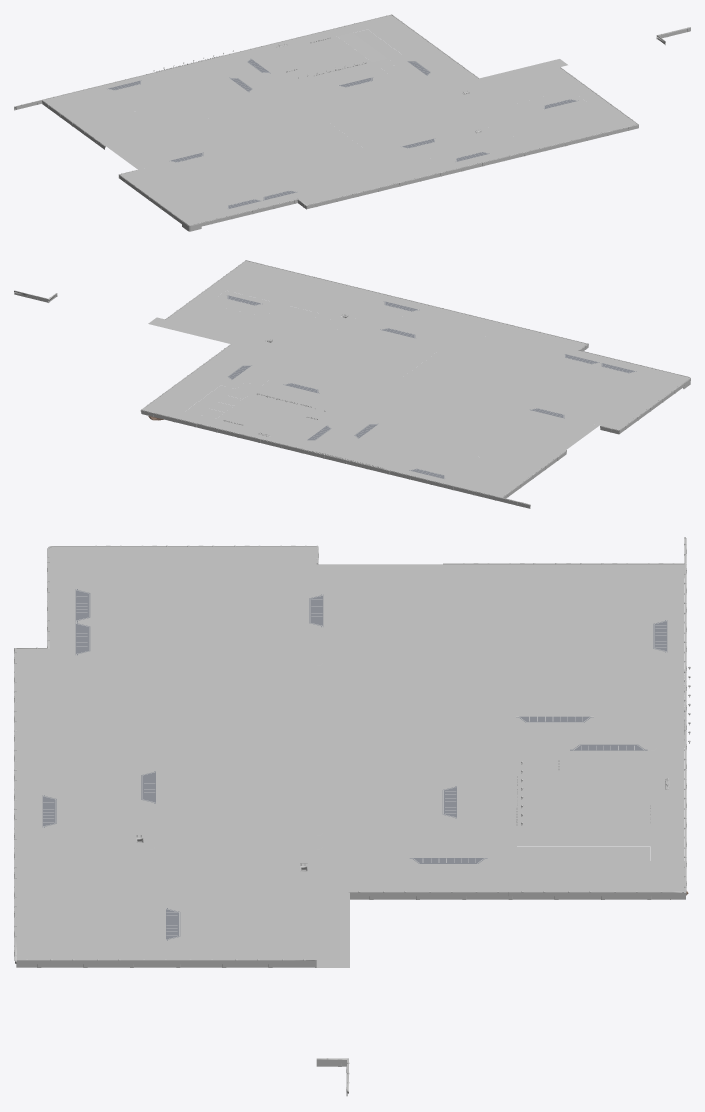
3 renders of one model, top to bottom at view 1: azimuth 30°, elevation 25°; view 2: azimuth 150°, elevation 25°; view 3: azimuth 270°, elevation 25°, orthographic. The views are drawn at different scales.
Parts seen in each view (by area): view 1: 01d01i01b01i01a01o01201d01i01b01i01a01o01101d01i01b01i0_93d6, 01d01i01b01i01a01o01301d01i01b01i01a01o01301d01i01b01i0_ca34, 01d01i01b01i01a01o01平01d01i01b01i01a01o01面01d01i01b_3d4, 01d01i01b01i01a01o01平01d01i01b01i01a01o01面01d01i01b_2635328, 01d01i01b01i01a01o01201d01i01b01i01a01o01101d01i01b01i0_4b26, 01d01i01b01i01a01o01平01d01i01b01i01a01o01面01d01i01b_e9bc184, 01d01i01b01i01a01o01平01d01i01b01i01a01o01面01d01i01b_e1783f9, 01d01i01b01i01a01o01平01d01i01b01i01a01o01面01d01i01b_c6d0f69, 01d01i01b01i01a01o01平01d01i01b01i01a01o01面01d01i01b_62409b9, 01d01i01b01i01a01o01平01d01i01b01i01a01o01面01d01i01b_a68b9bd, 01d01i01b01i01a01o01B01d01i01b01i01a01o01o01d01i01b01i0_da92, 01d01i01b01i01a01o01201d01i01b01i01a01o01101d01i01b01i0_fcbe (+38 smaller); view 2: 01d01i01b01i01a01o01201d01i01b01i01a01o01101d01i01b01i0_93d6, 01d01i01b01i01a01o01301d01i01b01i01a01o01301d01i01b01i0_ca34, 01d01i01b01i01a01o01平01d01i01b01i01a01o01面01d01i01b_3d4, 01d01i01b01i01a01o01平01d01i01b01i01a01o01面01d01i01b_2635328, 01d01i01b01i01a01o01201d01i01b01i01a01o01101d01i01b01i0_4b26, 01d01i01b01i01a01o01平01d01i01b01i01a01o01面01d01i01b_e9bc184, 01d01i01b01i01a01o01平01d01i01b01i01a01o01面01d01i01b_e1783f9, 01d01i01b01i01a01o01平01d01i01b01i01a01o01面01d01i01b_c6d0f69, 01d01i01b01i01a01o01平01d01i01b01i01a01o01面01d01i01b_62409b9, 01d01i01b01i01a01o01平01d01i01b01i01a01o01面01d01i01b_a68b9bd, 01d01i01b01i01a01o01B01d01i01b01i01a01o01o01d01i01b01i0_c861, 01d01i01b01i01a01o01201d01i01b01i01a01o01101d01i01b01i0_fcbe (+35 smaller); view 3: 01d01i01b01i01a01o01201d01i01b01i01a01o01101d01i01b01i0_93d6, 01d01i01b01i01a01o01301d01i01b01i01a01o01301d01i01b01i0_ca34, 01d01i01b01i01a01o01平01d01i01b01i01a01o01面01d01i01b_3d4, 01d01i01b01i01a01o01平01d01i01b01i01a01o01面01d01i01b_2635328, 01d01i01b01i01a01o01201d01i01b01i01a01o01101d01i01b01i0_4b26, 01d01i01b01i01a01o01平01d01i01b01i01a01o01面01d01i01b_e9bc184, 01d01i01b01i01a01o01平01d01i01b01i01a01o01面01d01i01b_e1783f9, 01d01i01b01i01a01o01平01d01i01b01i01a01o01面01d01i01b_c6d0f69, 01d01i01b01i01a01o01平01d01i01b01i01a01o01面01d01i01b_62409b9, 01d01i01b01i01a01o01平01d01i01b01i01a01o01面01d01i01b_a68b9bd, 01d01i01b01i01a01o01201d01i01b01i01a01o01101d01i01b01i0_fcbe, 01d01i01b01i01a01o01101d01i01b01i01a01o01201d01i01b01i0_8d05 (+44 smaller).
Boxes of the visible parts, x1,y1,x2,y2 form: 01d01i01b01i01a01o01201d01i01b01i01a01o01101d01i01b01i0_93d6: (120, 144, 303, 218); 01d01i01b01i01a01o01301d01i01b01i01a01o01301d01i01b01i0_ca34: (67, 59, 281, 128); 01d01i01b01i01a01o01平01d01i01b01i01a01o01面01d01i01b_3d4: (224, 75, 415, 134); 01d01i01b01i01a01o01平01d01i01b01i01a01o01面01d01i01b_2635328: (102, 106, 234, 159); 01d01i01b01i01a01o01201d01i01b01i01a01o01101d01i01b01i0_4b26: (455, 71, 579, 118); 01d01i01b01i01a01o01平01d01i01b01i01a01o01面01d01i01b_e9bc184: (359, 15, 478, 86); 01d01i01b01i01a01o01平01d01i01b01i01a01o01面01d01i01b_e1783f9: (350, 100, 458, 143); 01d01i01b01i01a01o01平01d01i01b01i01a01o01面01d01i01b_c6d0f69: (262, 37, 371, 80); 01d01i01b01i01a01o01平01d01i01b01i01a01o01面01d01i01b_62409b9: (259, 123, 364, 165); 01d01i01b01i01a01o01平01d01i01b01i01a01o01面01d01i01b_a68b9bd: (498, 103, 613, 143); 01d01i01b01i01a01o01B01d01i01b01i01a01o01o01d01i01b01i0_da92: (306, 124, 638, 208); 01d01i01b01i01a01o01201d01i01b01i01a01o01101d01i01b01i0_fcbe: (313, 147, 516, 200); 01d01i01b01i01a01o01201d01i01b01i01a01o01101d01i01b01i0_93d6: (492, 353, 680, 429); 01d01i01b01i01a01o01301d01i01b01i01a01o01301d01i01b01i0_ca34: (309, 415, 529, 486); 01d01i01b01i01a01o01平01d01i01b01i01a01o01面01d01i01b_3d4: (270, 360, 466, 421); 01d01i01b01i01a01o01平01d01i01b01i01a01o01面01d01i01b_2635328: (438, 405, 574, 460); 01d01i01b01i01a01o01201d01i01b01i01a01o01101d01i01b01i0_4b26: (181, 297, 309, 345); 01d01i01b01i01a01o01平01d01i01b01i01a01o01面01d01i01b_e9bc184: (142, 344, 265, 417); 01d01i01b01i01a01o01平01d01i01b01i01a01o01面01d01i01b_e1783f9: (306, 327, 417, 372); 01d01i01b01i01a01o01平01d01i01b01i01a01o01面01d01i01b_c6d0f69: (216, 393, 328, 437); 01d01i01b01i01a01o01平01d01i01b01i01a01o01面01d01i01b_62409b9: (403, 351, 511, 394); 01d01i01b01i01a01o01平01d01i01b01i01a01o01面01d01i01b_a68b9bd: (226, 271, 345, 312); 01d01i01b01i01a01o01B01d01i01b01i01a01o01o01d01i01b01i0_c861: (141, 409, 530, 508); 01d01i01b01i01a01o01201d01i01b01i01a01o01101d01i01b01i0_fcbe: (361, 291, 571, 346); 01d01i01b01i01a01o01201d01i01b01i01a01o01101d01i01b01i0_93d6: (82, 547, 316, 662); 01d01i01b01i01a01o01301d01i01b01i01a01o01301d01i01b01i0_ca34: (517, 578, 650, 747); 01d01i01b01i01a01o01平01d01i01b01i01a01o01面01d01i01b_3d4: (350, 677, 450, 832); 01d01i01b01i01a01o01平01d01i01b01i01a01o01面01d01i01b_2635328: (350, 578, 516, 662); 01d01i01b01i01a01o01201d01i01b01i01a01o01101d01i01b01i0_4b26: (182, 860, 316, 946); 01d01i01b01i01a01o01平01d01i01b01i01a01o01面01d01i01b_e9bc184: (348, 861, 684, 891); 01d01i01b01i01a01o01平01d01i01b01i01a01o01面01d01i01b_e1783f9: (182, 762, 316, 832); 01d01i01b01i01a01o01平01d01i01b01i01a01o01面01d01i01b_c6d0f69: (517, 762, 650, 832); 01d01i01b01i01a01o01平01d01i01b01i01a01o01面01d01i01b_62409b9: (182, 677, 316, 743); 01d01i01b01i01a01o01平01d01i01b01i01a01o01面01d01i01b_a68b9bd: (49, 860, 149, 945); 01d01i01b01i01a01o01201d01i01b01i01a01o01101d01i01b01i0_fcbe: (16, 663, 49, 846); 01d01i01b01i01a01o01101d01i01b01i01a01o01201d01i01b01i0_8d05: (350, 564, 650, 578).
Bounding box in the file's own units: 39135 × 562 × 20255.
